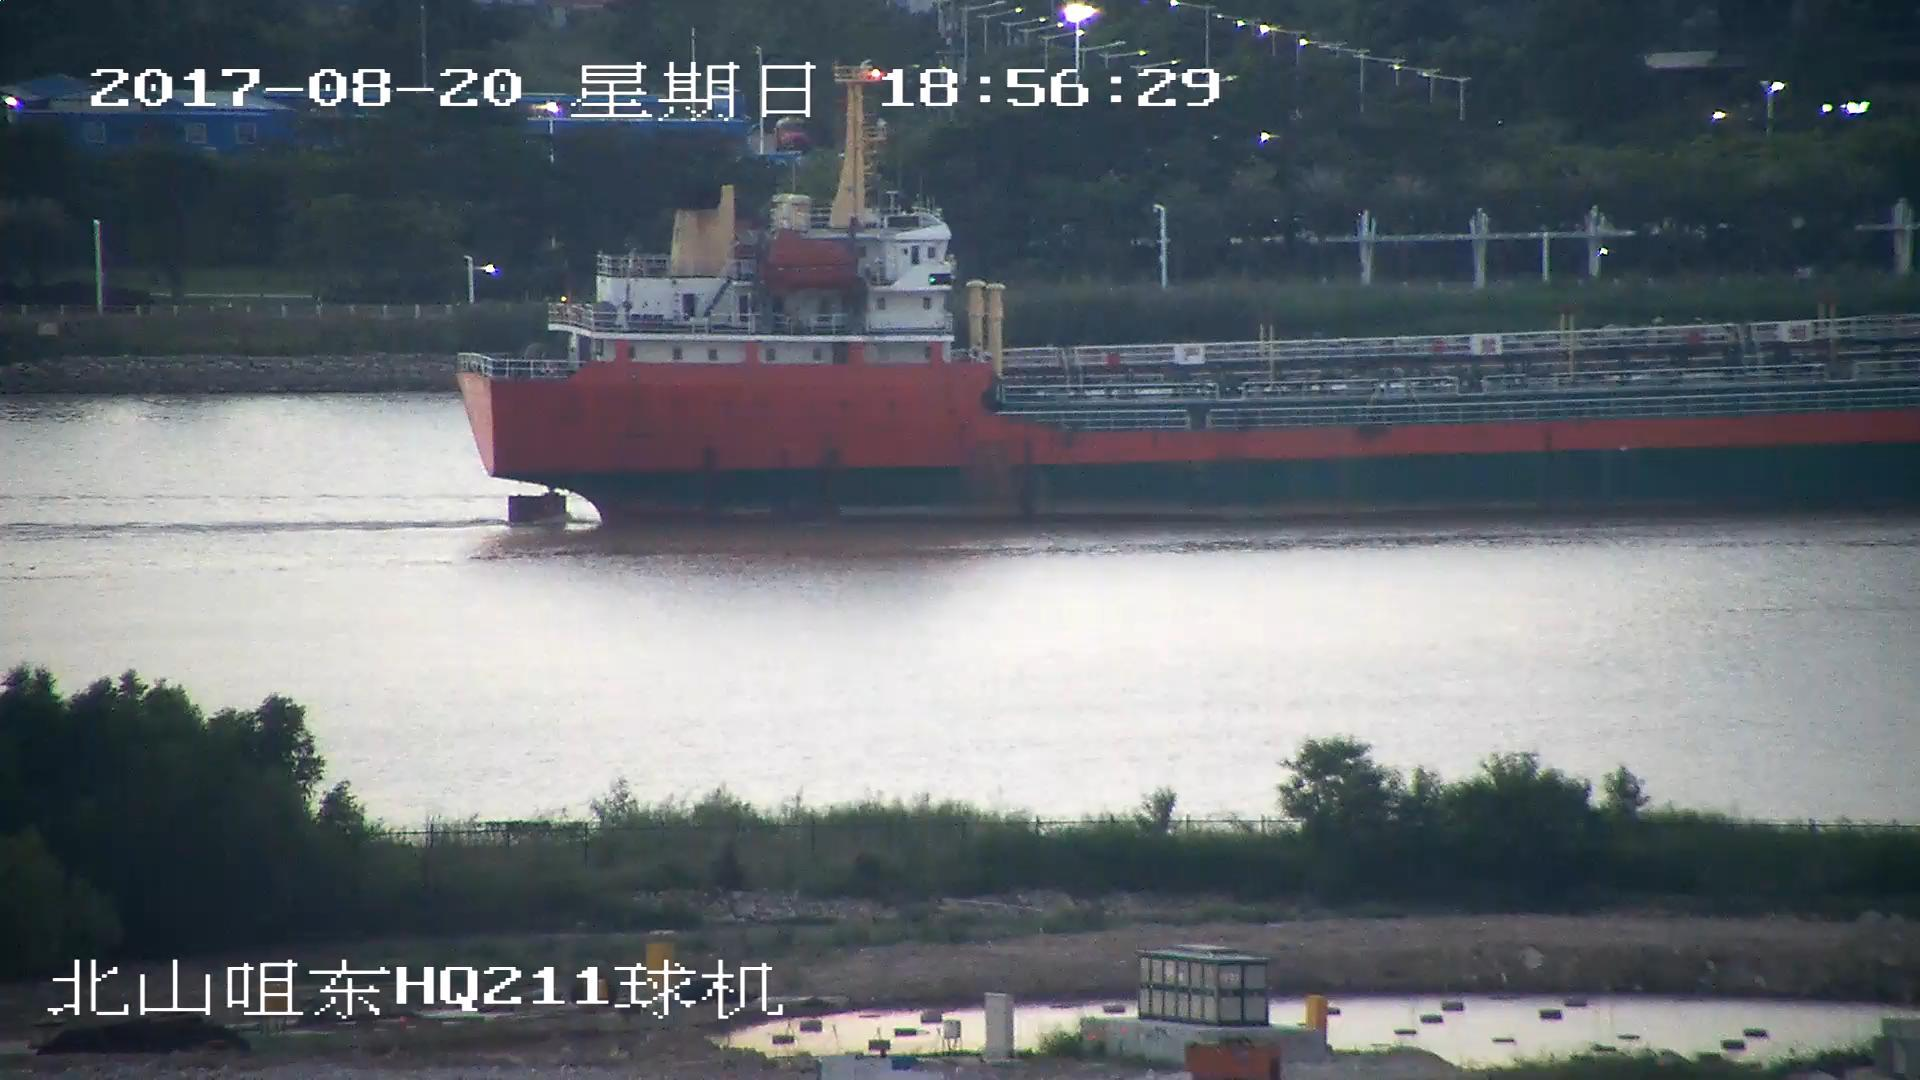Ship: (454, 138, 1920, 516)
